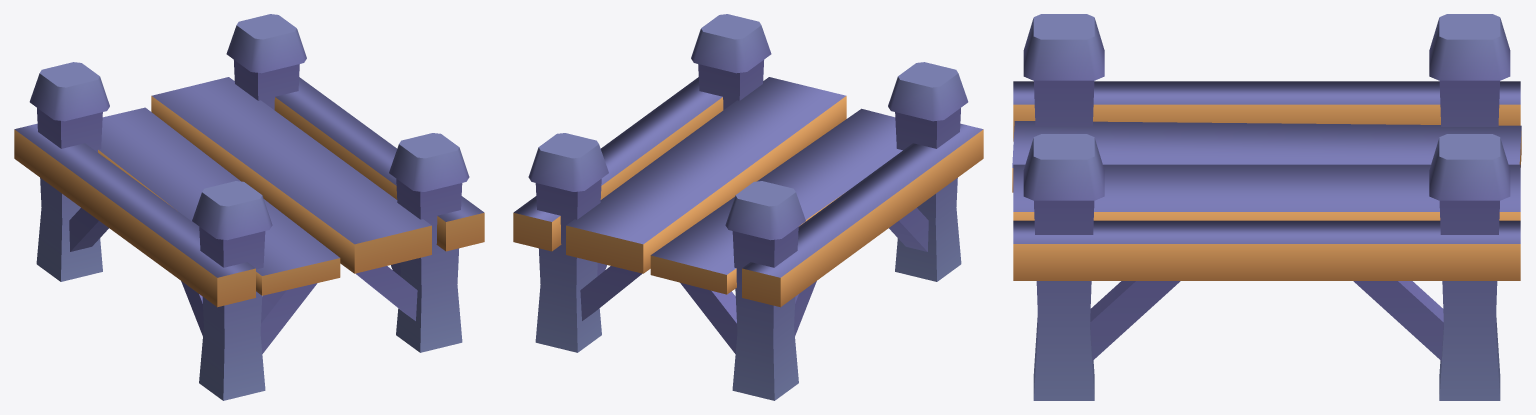
File: structure-platform-dock-small.fbx
The picture shows the model from 3 angles, left to right: view 1: azimuth 30°, elevation 25°; view 2: azimuth 150°, elevation 25°; view 3: azimuth 270°, elevation 25°; orthographic projection. The views are drawn at different scales.
Parts seen in each view (by area): view 1: structure-platform-dock-small; view 2: structure-platform-dock-small; view 3: structure-platform-dock-small.
Boxes of the visible parts, x1,y1,x2,y2 form: structure-platform-dock-small: [14, 14, 484, 400]; structure-platform-dock-small: [513, 14, 983, 400]; structure-platform-dock-small: [1012, 14, 1521, 400].
Bounding box in the file's own units: 190 × 131 × 251.
